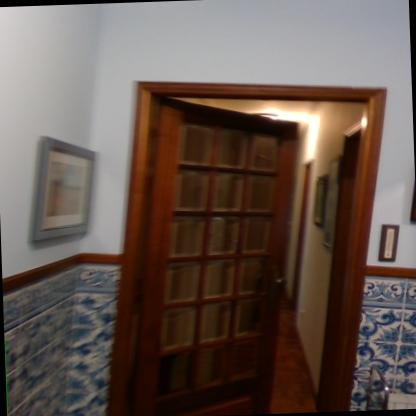semi: (110, 56, 401, 416)
